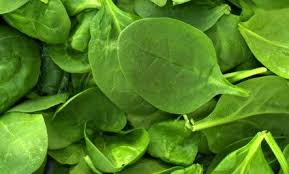spinach: (119, 15, 235, 120), (14, 22, 97, 119)
